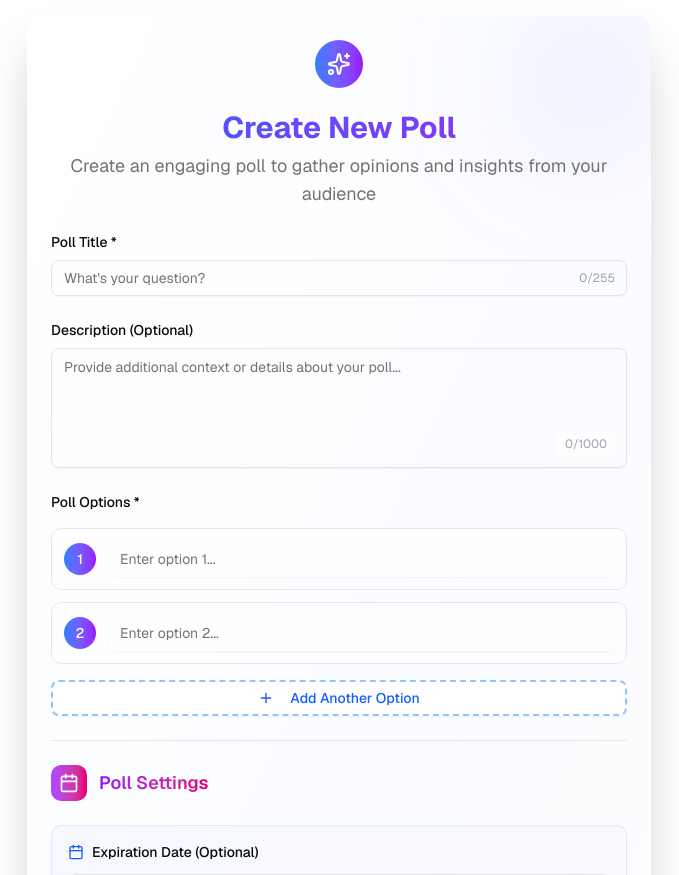
Scenario: Poll Creation Form State Management › Dynamic Options Management › should add new poll option (happy path)
The width and height of the screenshot is (679, 875).
Check: the number of fields with placeholder "Enter option 1..." is 2, box [108,541,614,577]; [108,615,614,651]
// Add a new option
Click the button "Add Another Option".
click(339, 698)  # box [51,680,627,716]
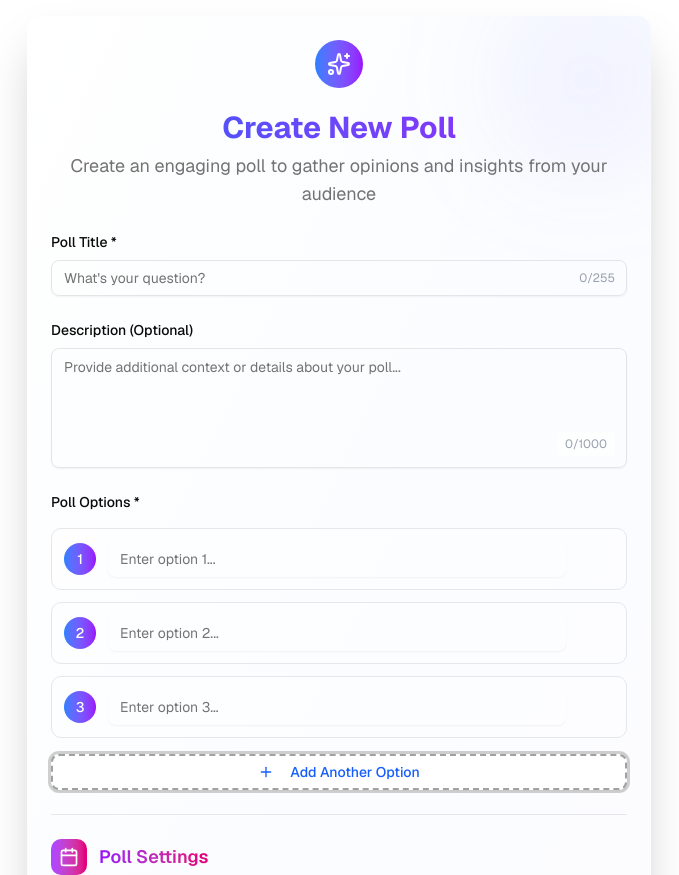
Check: the number of fields with placeholder "Enter option 1..." is 3, box [108,541,566,577]; [108,615,566,651]; [108,689,566,725]
